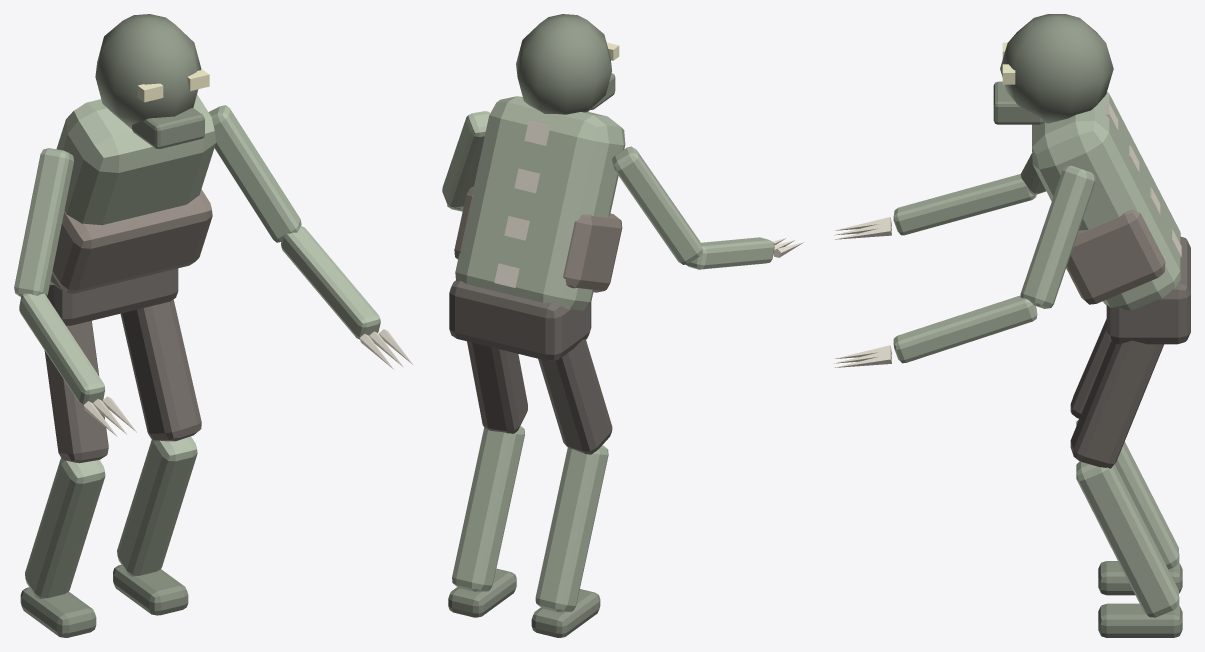
The model's file is enemy_lean.fbx.
The picture shows the model from 3 angles, left to right: view 1: azimuth 30°, elevation 25°; view 2: azimuth 150°, elevation 25°; view 3: azimuth 270°, elevation 25°; orthographic projection. The views are drawn at different scales.
Parts seen in each view (by area): view 1: enemy_lean, LegL.001, LegR.001, Head, ArmR, ArmL; view 2: enemy_lean, LegR.001, LegL.001, Head, ArmR, ArmL; view 3: enemy_lean, LegL.001, Head, ArmL, ArmR, LegR.001.
Part boxes in pixels (x1,y1,x2,y2): enemy_lean: [47, 94, 215, 325]; LegL.001: [113, 299, 201, 615]; LegR.001: [20, 321, 108, 637]; Head: [95, 14, 209, 149]; ArmR: [14, 148, 136, 436]; ArmL: [208, 105, 412, 369]; enemy_lean: [449, 96, 625, 360]; LegR.001: [531, 339, 612, 637]; LegL.001: [448, 341, 527, 617]; Head: [516, 14, 619, 114]; ArmR: [612, 146, 803, 269]; ArmL: [442, 111, 490, 211]; enemy_lean: [1032, 92, 1190, 344]; LegL.001: [1070, 340, 1182, 637]; Head: [993, 14, 1113, 124]; ArmL: [834, 165, 1095, 367]; ArmR: [834, 153, 1046, 239]; LegR.001: [1070, 319, 1182, 595].
Bounding box in the file's own units: 0.7938 × 1.55 × 0.8489.
